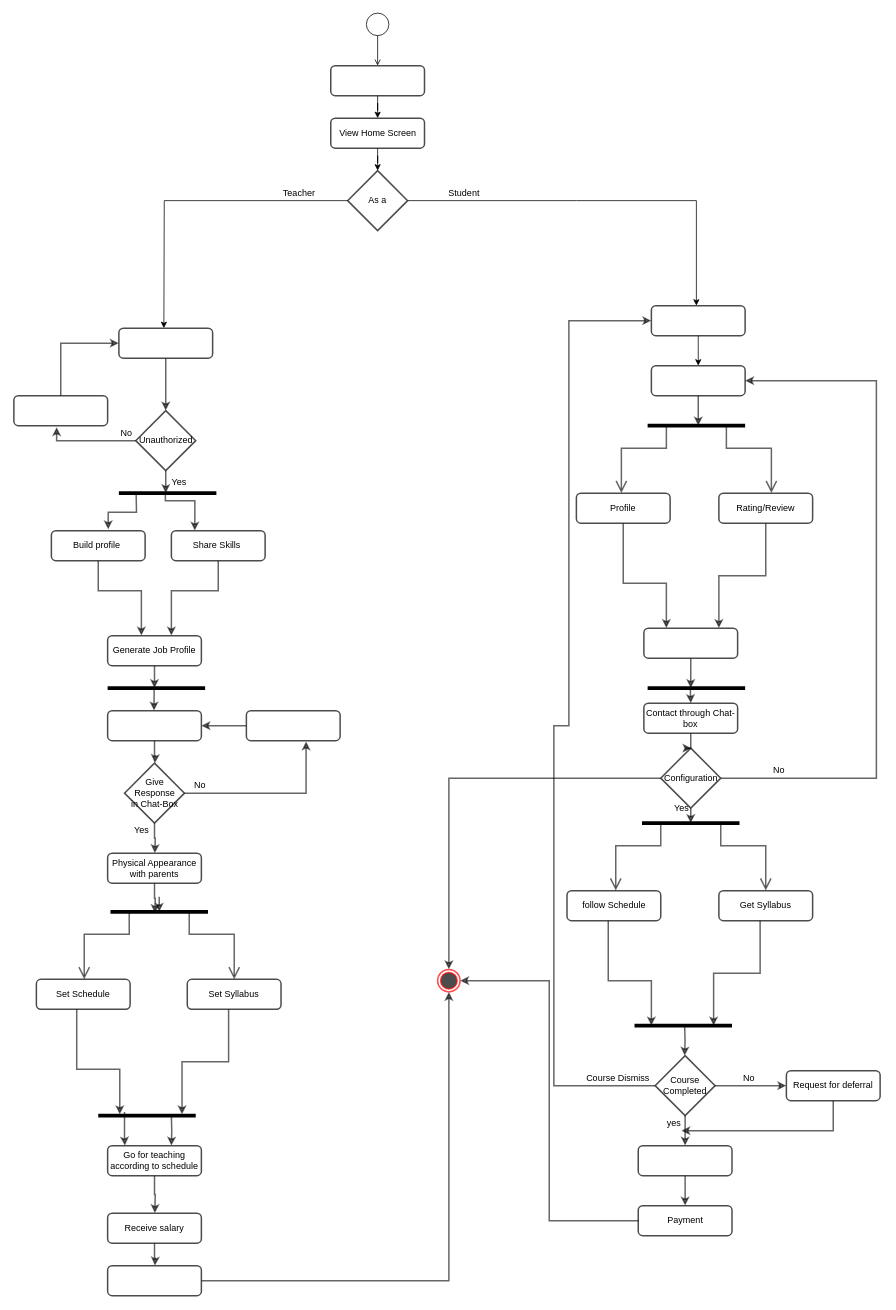
Some shapes in this 896 by 1310 pixel diagram are drawn without their labels. Here are the shapes that lost their labels. From the top down, the centre of each, then its label:
At [377,80]: "Log-in".
At [698,320]: "Search Courses".
At [165,342]: "Enter User Password / Id".
At [698,380]: "search teacher".
At [60,410]: "Registration".
At [690,642]: "generates Request".
At [154,725]: "Check new job Allocated".
At [292,725]: "Wait For Another Request".
At [684,1160]: "Generates Review".
At [154,1280]: "Log-Out".
